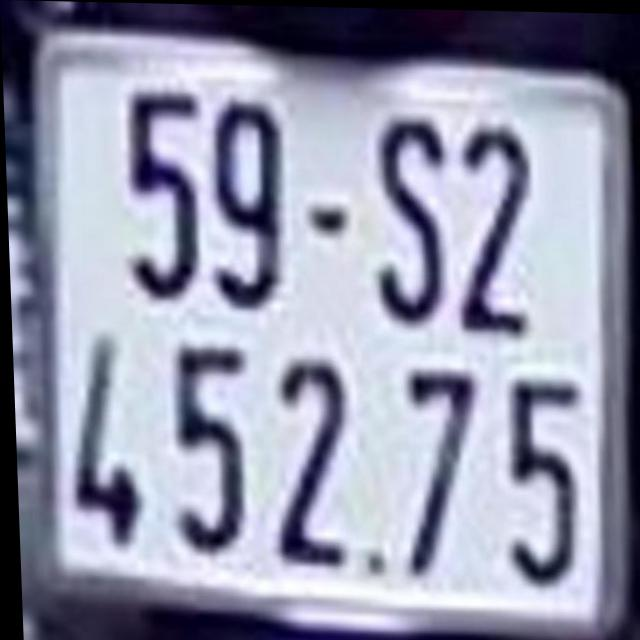2: (456, 123, 535, 329), (268, 359, 337, 565)
4: (66, 331, 146, 541)
5: (501, 370, 578, 580), (175, 336, 247, 546), (125, 91, 196, 290)
7: (395, 360, 471, 569)
9: (206, 94, 281, 309)
S: (366, 111, 449, 321)
